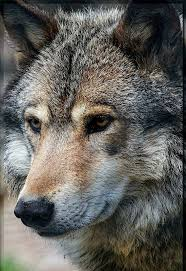Lobo: (2, 2, 175, 247)
